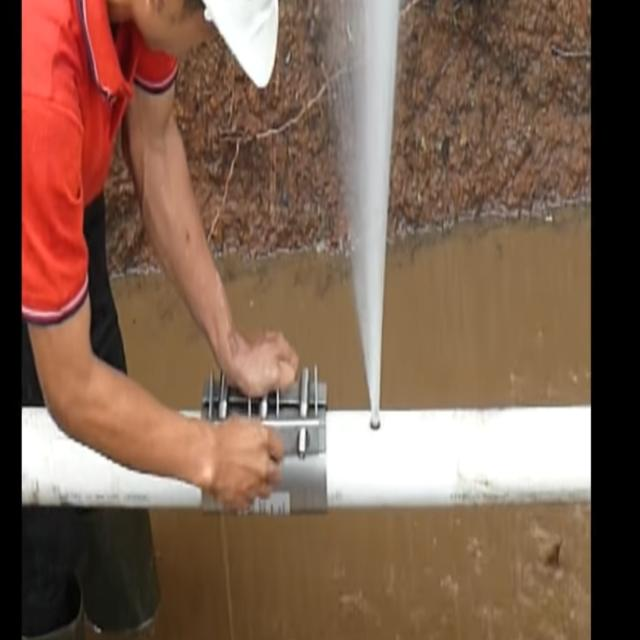leak: (325, 0, 400, 429)
